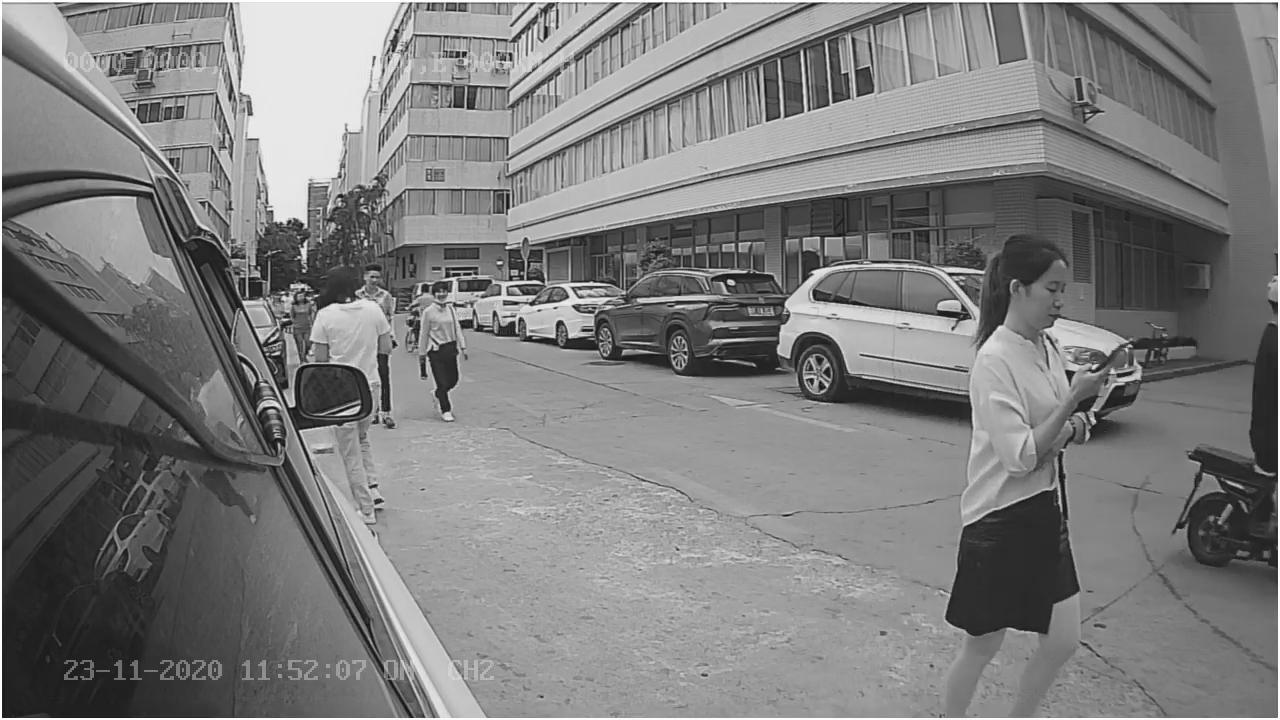person: (966, 230, 1099, 462), (417, 279, 483, 422)
